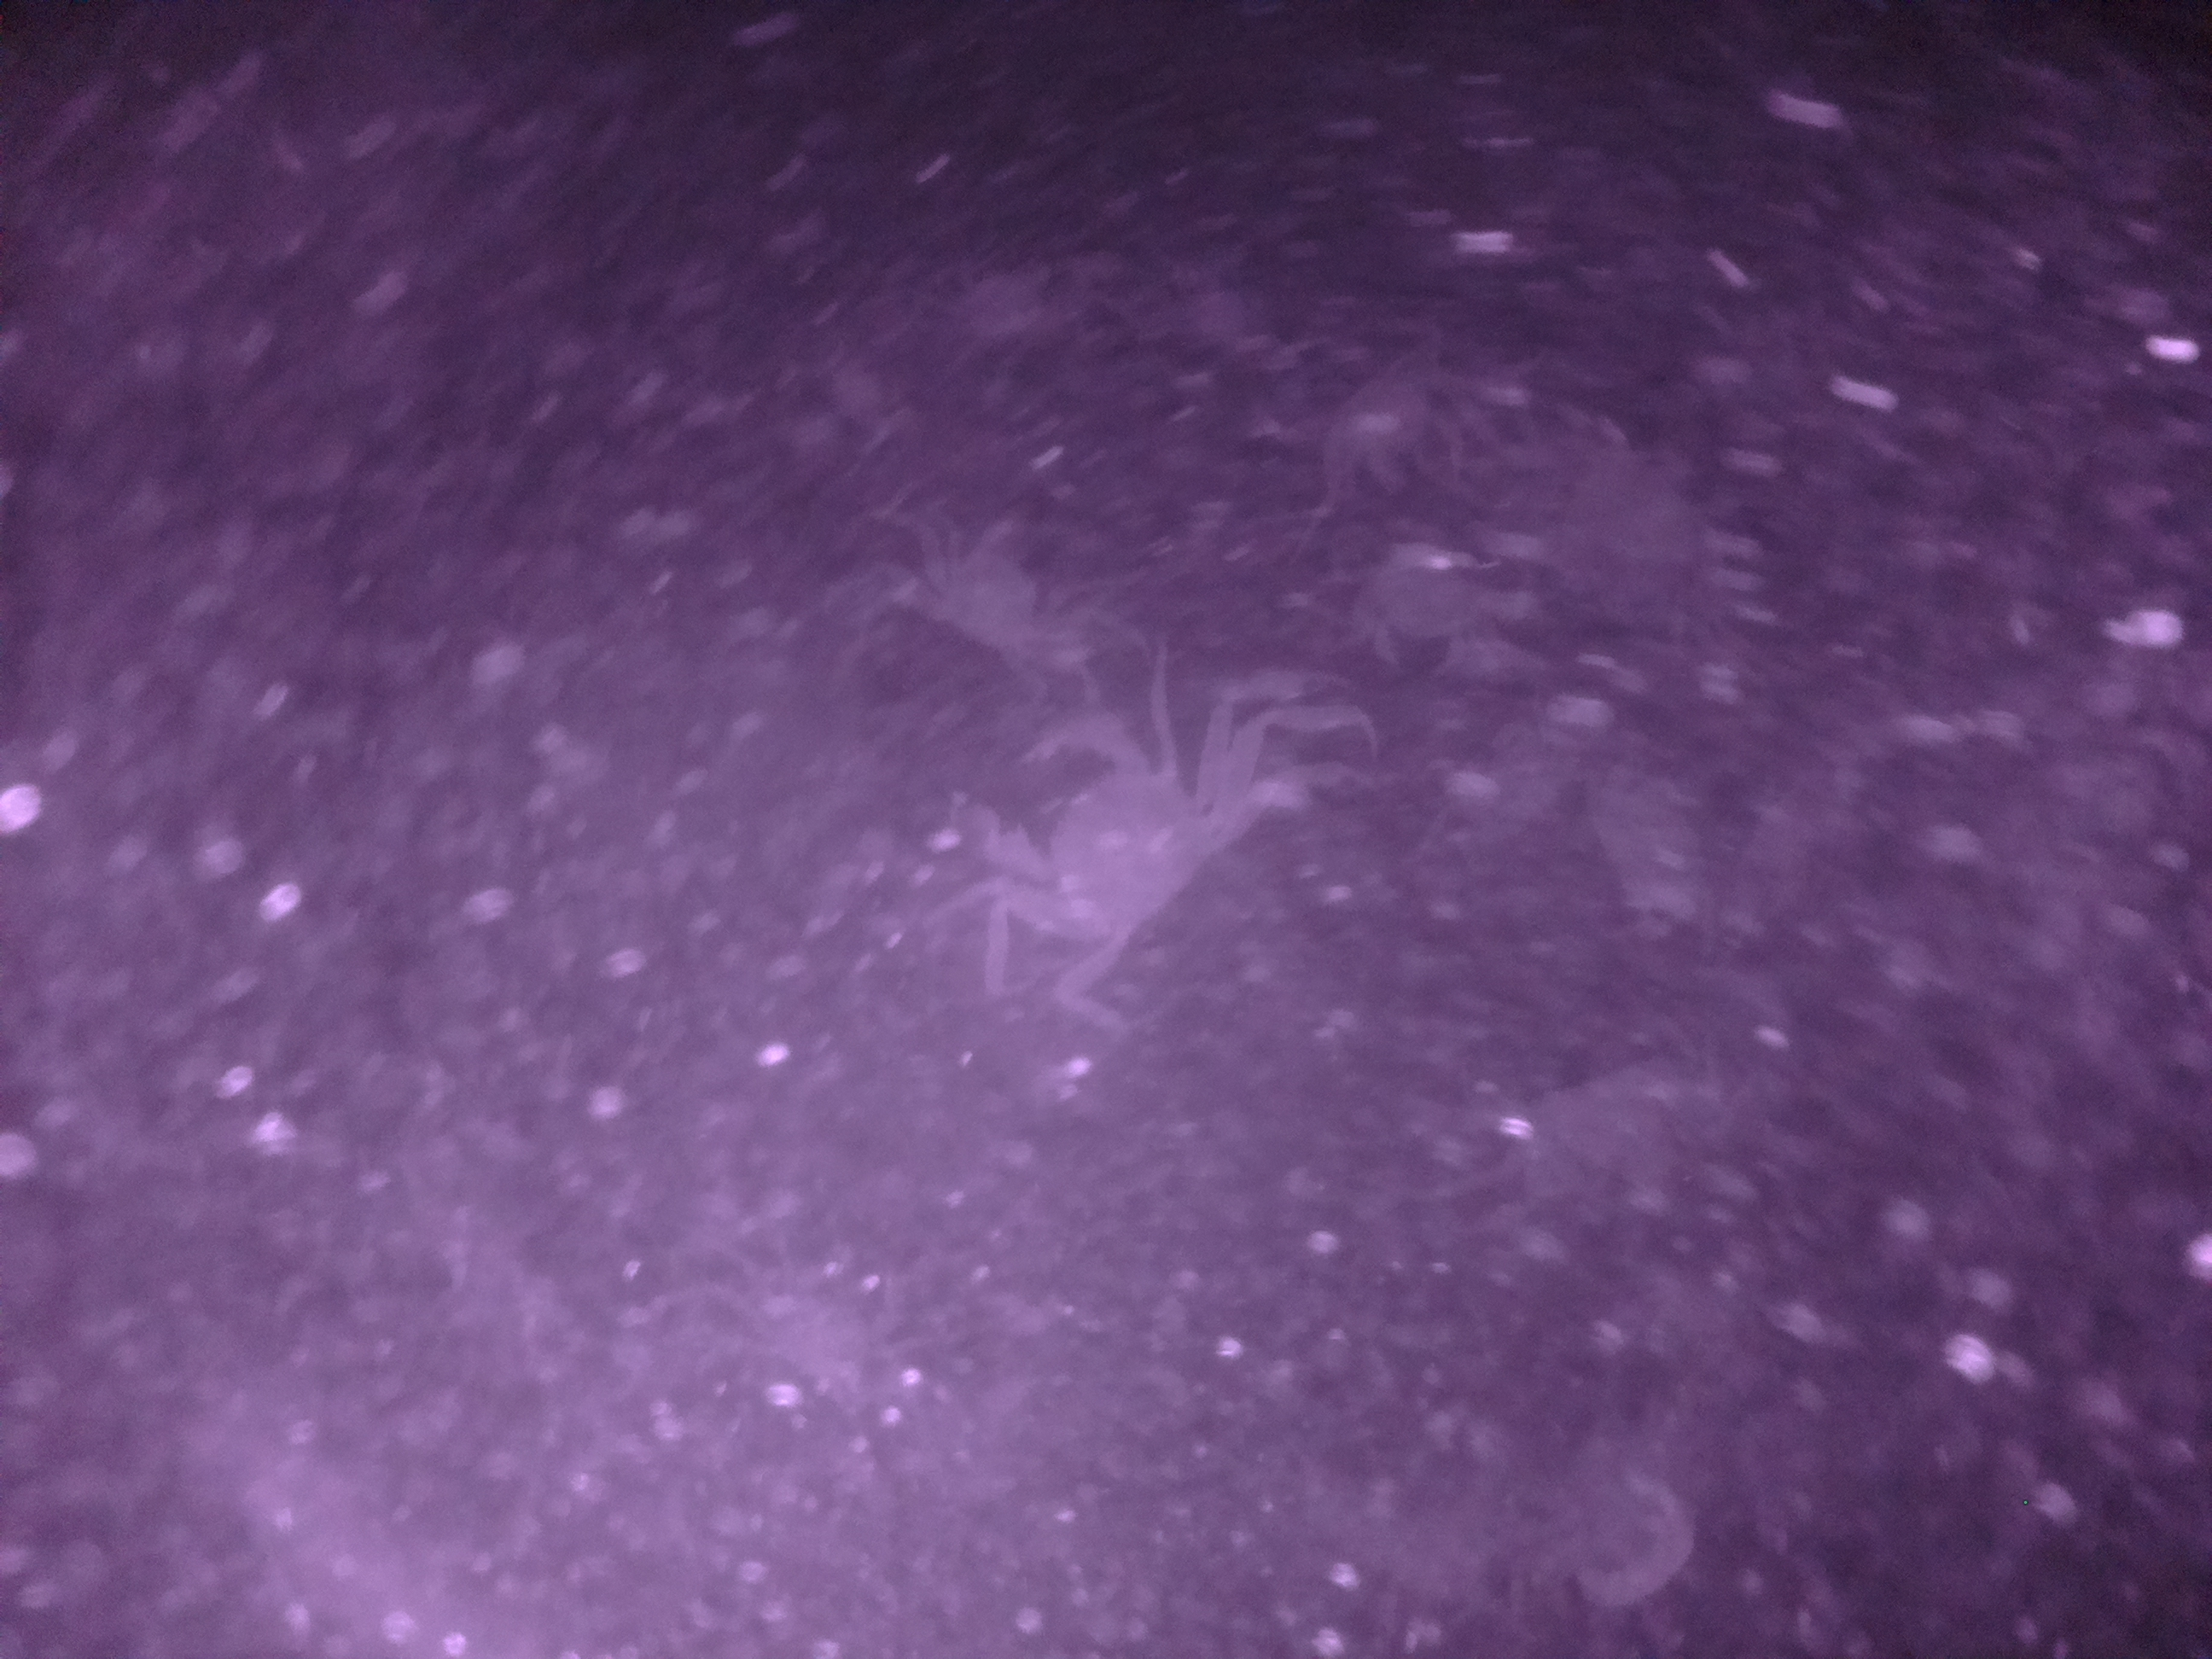Crab: (921, 709, 1254, 978), (920, 509, 1106, 692)
